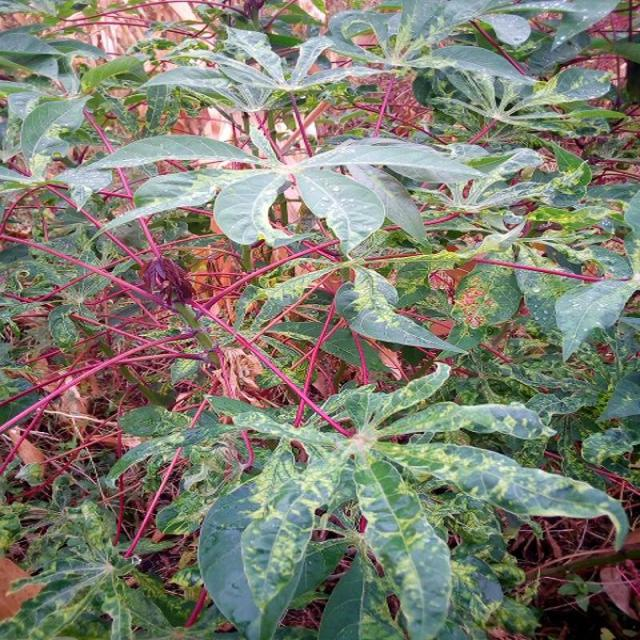cassava leaf: (1, 0, 637, 638), (195, 361, 629, 638)
